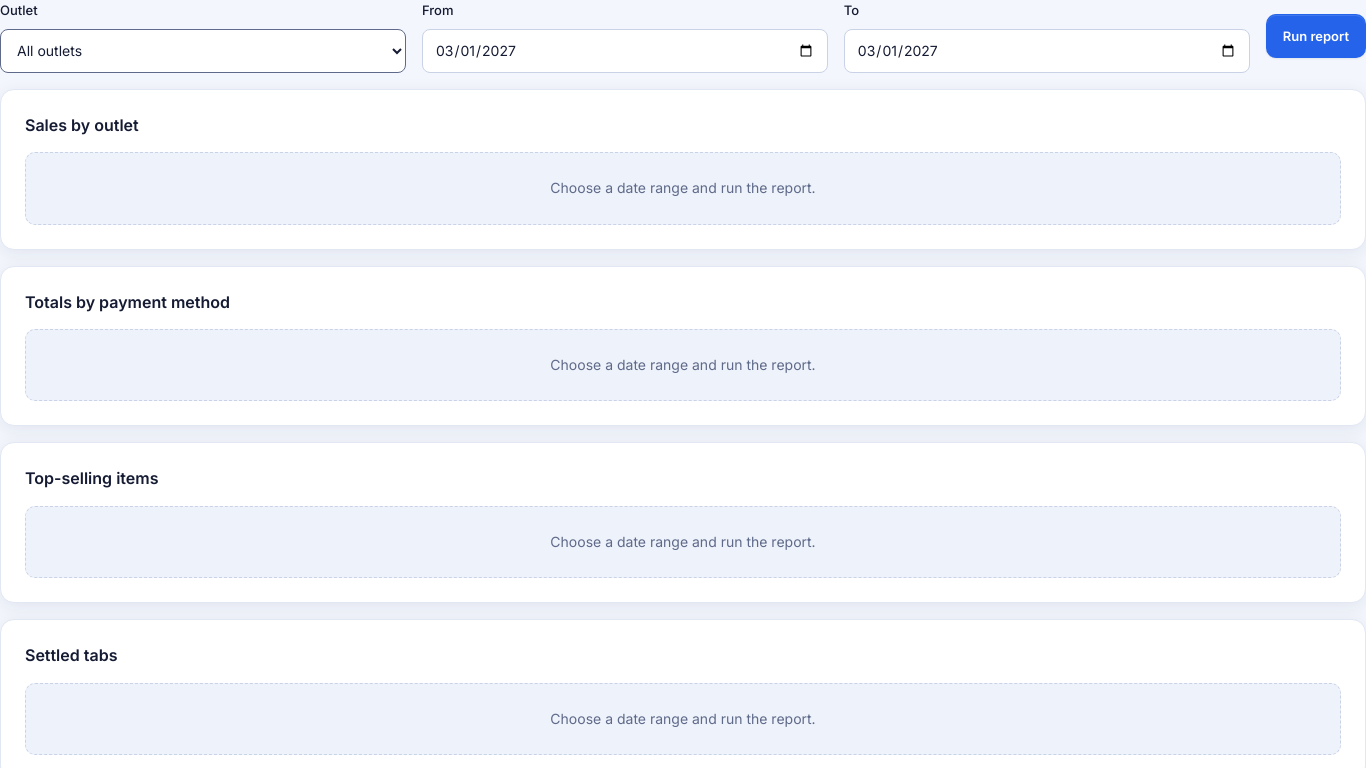
it: <SalesTab> › shows the real error when the report is refused
This screenshot has width=1366, height=768.
Click the button "Run report".
click(1316, 36)  # box x1=1266 y1=14 x2=1365 y2=58
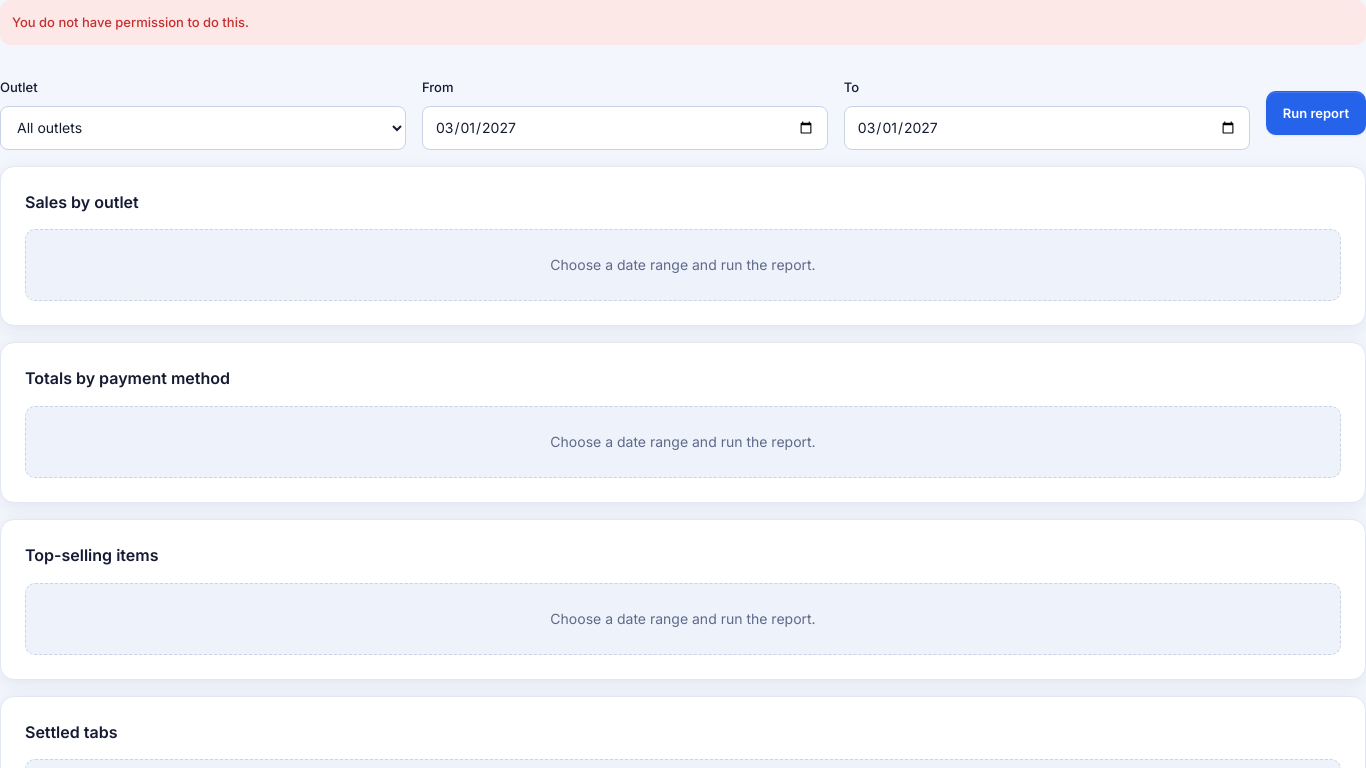
Expected: the message reads "You do not have permission to do this.", x1=12 y1=14 x2=249 y2=30
